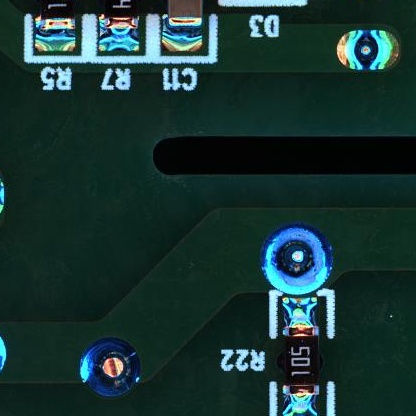spot: (261, 225, 333, 294), (79, 337, 142, 396), (337, 29, 399, 70)
